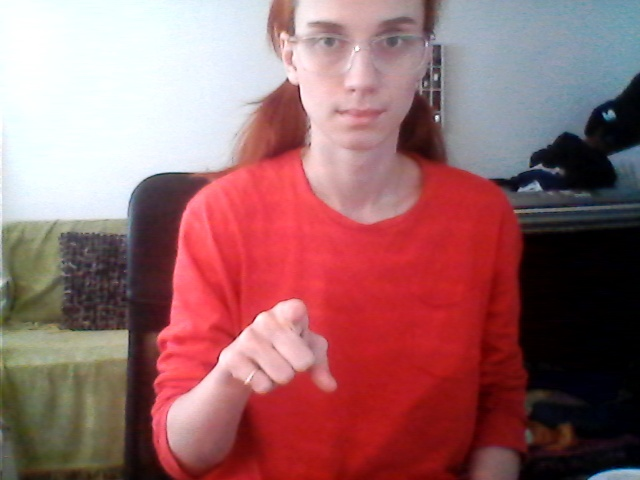ty: (223, 292, 357, 413)
